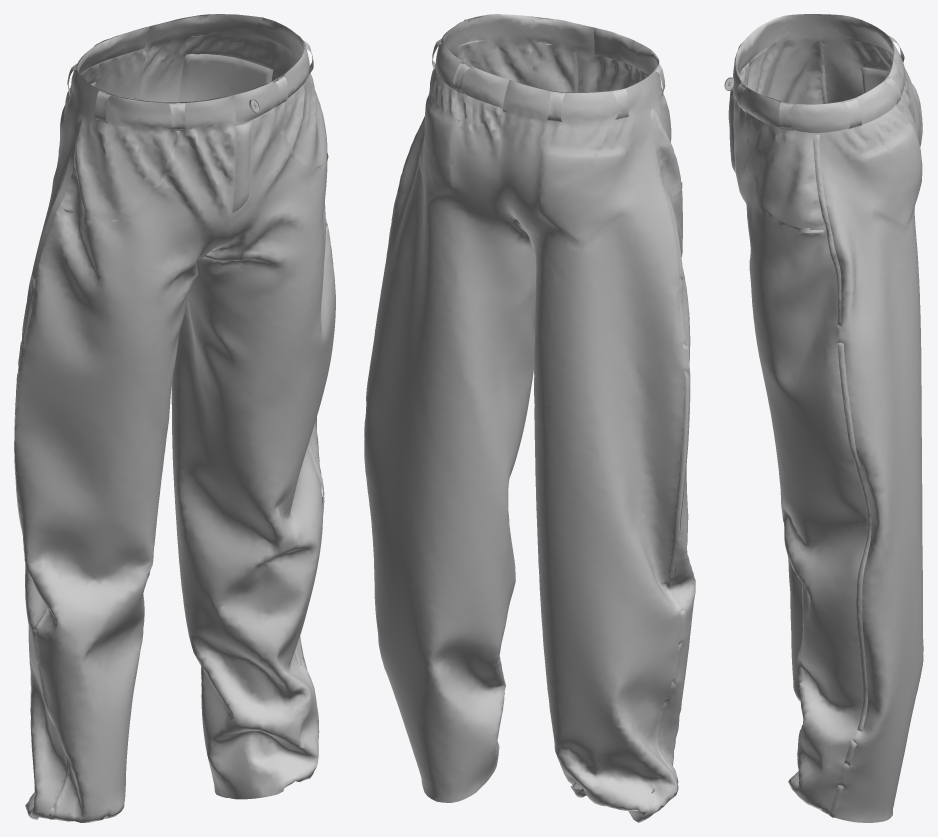
3 renders of one model, left to right at view 1: azimuth 30°, elevation 25°; view 2: azimuth 150°, elevation 25°; view 3: azimuth 270°, elevation 25°, orthographic. The views are drawn at different scales.
Parts seen in each view (by area): view 1: Pants LP v2; view 2: Pants LP v2; view 3: Pants LP v2.
Boxes of the visible parts, box(x1,y1,x2,y2) form: Pants LP v2: box(14, 14, 335, 822); Pants LP v2: box(364, 14, 695, 822); Pants LP v2: box(724, 14, 923, 822).
Bounding box in the file's own units: 0.4907 × 1.13 × 0.2831.
